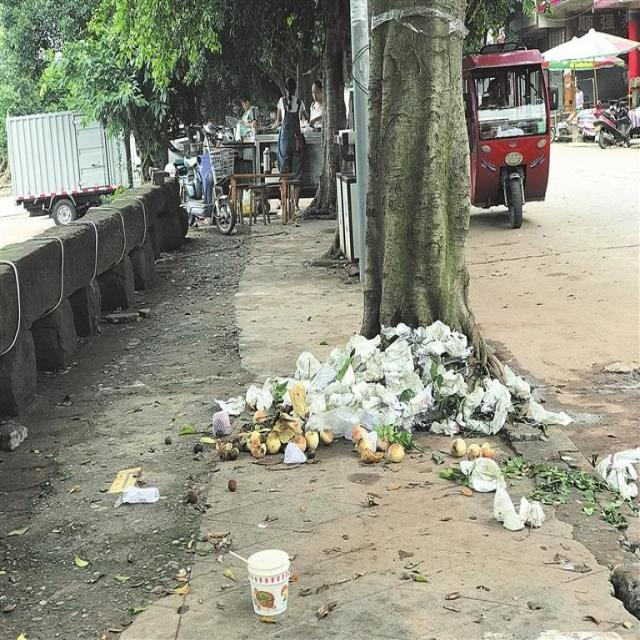garbage: (206, 322, 532, 466), (242, 539, 294, 620), (592, 438, 640, 502), (108, 464, 165, 509)
